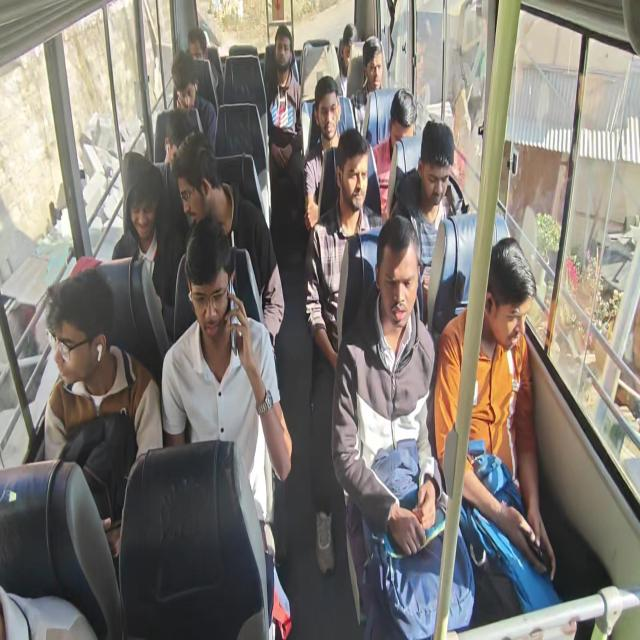person: (486, 243, 532, 354), (186, 238, 231, 345), (56, 295, 104, 385), (380, 232, 420, 339), (178, 146, 221, 230), (127, 148, 161, 254), (417, 134, 455, 212), (338, 140, 372, 217), (159, 111, 198, 175), (392, 83, 416, 157), (315, 82, 344, 143), (172, 62, 199, 111), (340, 25, 366, 74), (362, 39, 383, 95), (271, 30, 294, 76), (186, 31, 210, 68)
